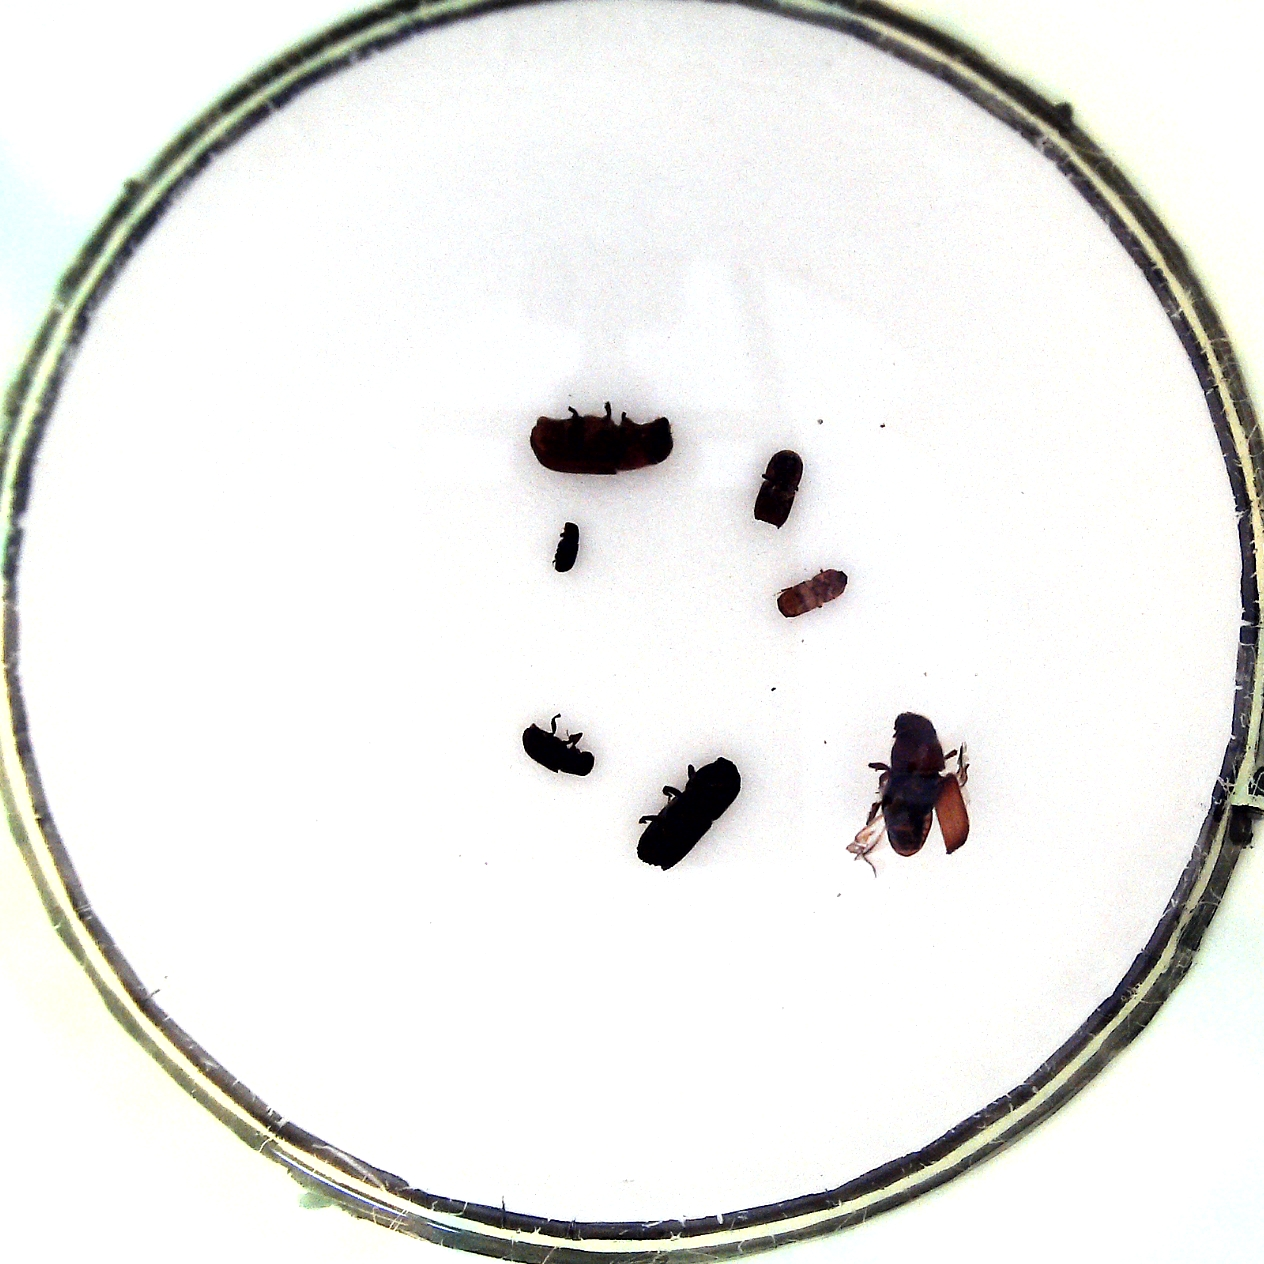Boerner: (631, 754, 747, 874)
Leconte: (842, 710, 975, 872), (526, 395, 678, 484)
Linnaeus: (750, 446, 809, 535)
acuminatus: (773, 564, 857, 620)
armandi: (516, 707, 601, 782)
coleoptera: (552, 517, 583, 581)
